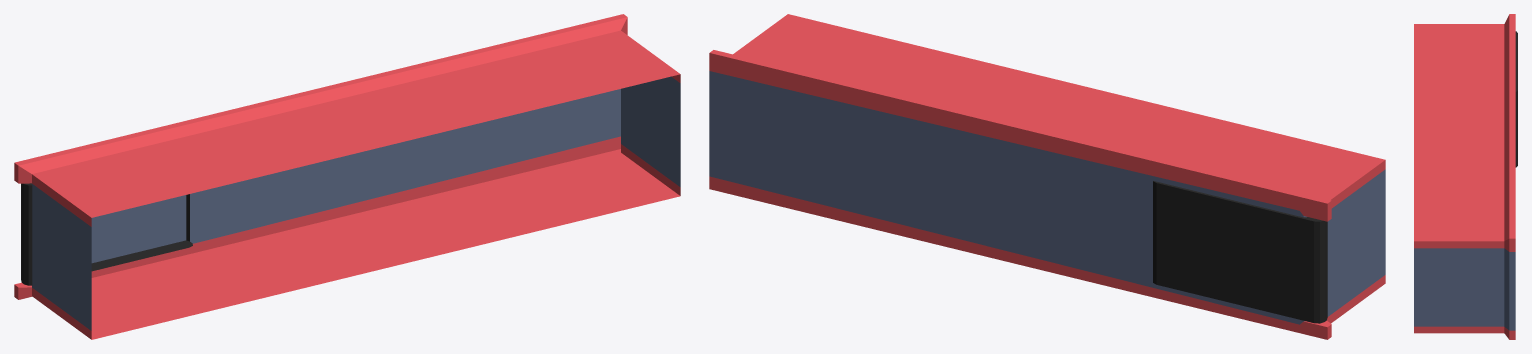
The model's file is table.fbx.
3 views of the same model, side by side, from view 1: azimuth 30°, elevation 25°; view 2: azimuth 150°, elevation 25°; view 3: azimuth 270°, elevation 25° (orthographic). The views are drawn at different scales.
Visible parts, largest first — view 1: table; view 2: table; view 3: table.
Boxes of the visible parts, x1,y1,x2,y2 form: table: (14,14,680,339); table: (709,14,1385,339); table: (1414,14,1517,339).
Bounding box in the file's own units: 1223 × 258 × 239.
